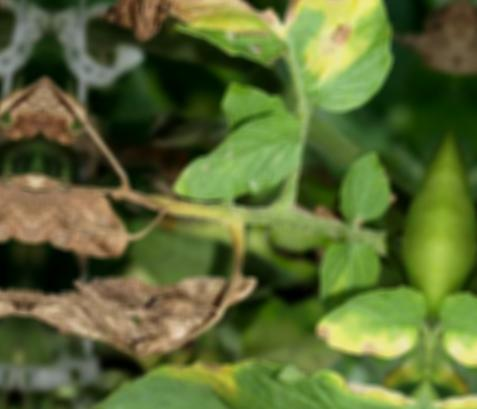Tomato Early blight leaf: (80, 348, 415, 409), (276, 0, 415, 120), (301, 272, 436, 374)
Tomato leaf: (171, 93, 302, 217)
